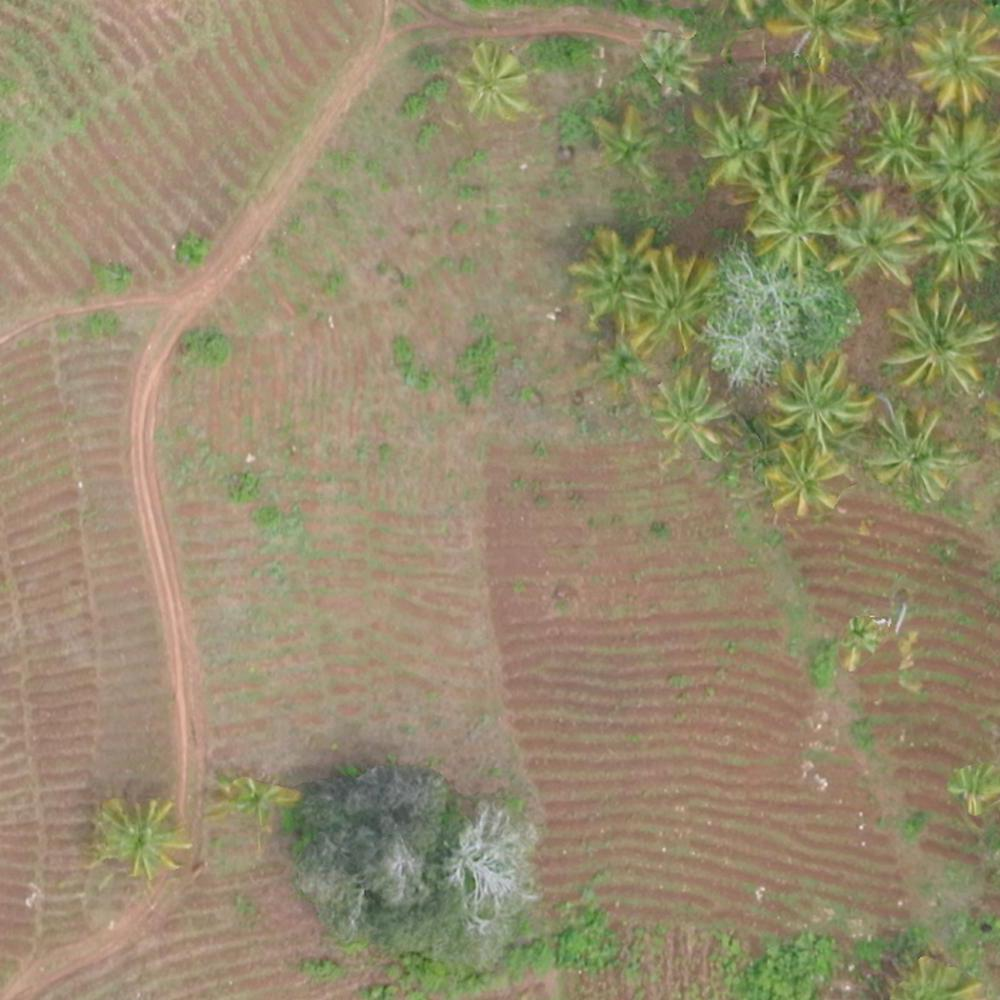Palm: (883, 291, 993, 393), (630, 249, 718, 355), (908, 9, 1000, 110), (869, 402, 965, 498), (572, 227, 661, 327), (775, 349, 872, 438), (762, 2, 883, 72), (743, 179, 830, 274), (829, 190, 913, 288), (913, 115, 1000, 208), (760, 77, 851, 164), (688, 96, 778, 183), (911, 199, 1000, 283), (94, 801, 184, 884), (652, 362, 732, 451), (850, 96, 930, 185), (629, 32, 710, 110), (766, 441, 850, 516), (457, 42, 533, 123), (588, 105, 662, 186)
